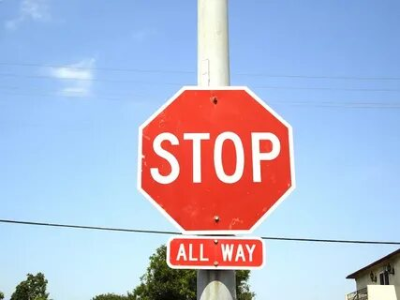stop: (146, 103, 290, 224)
